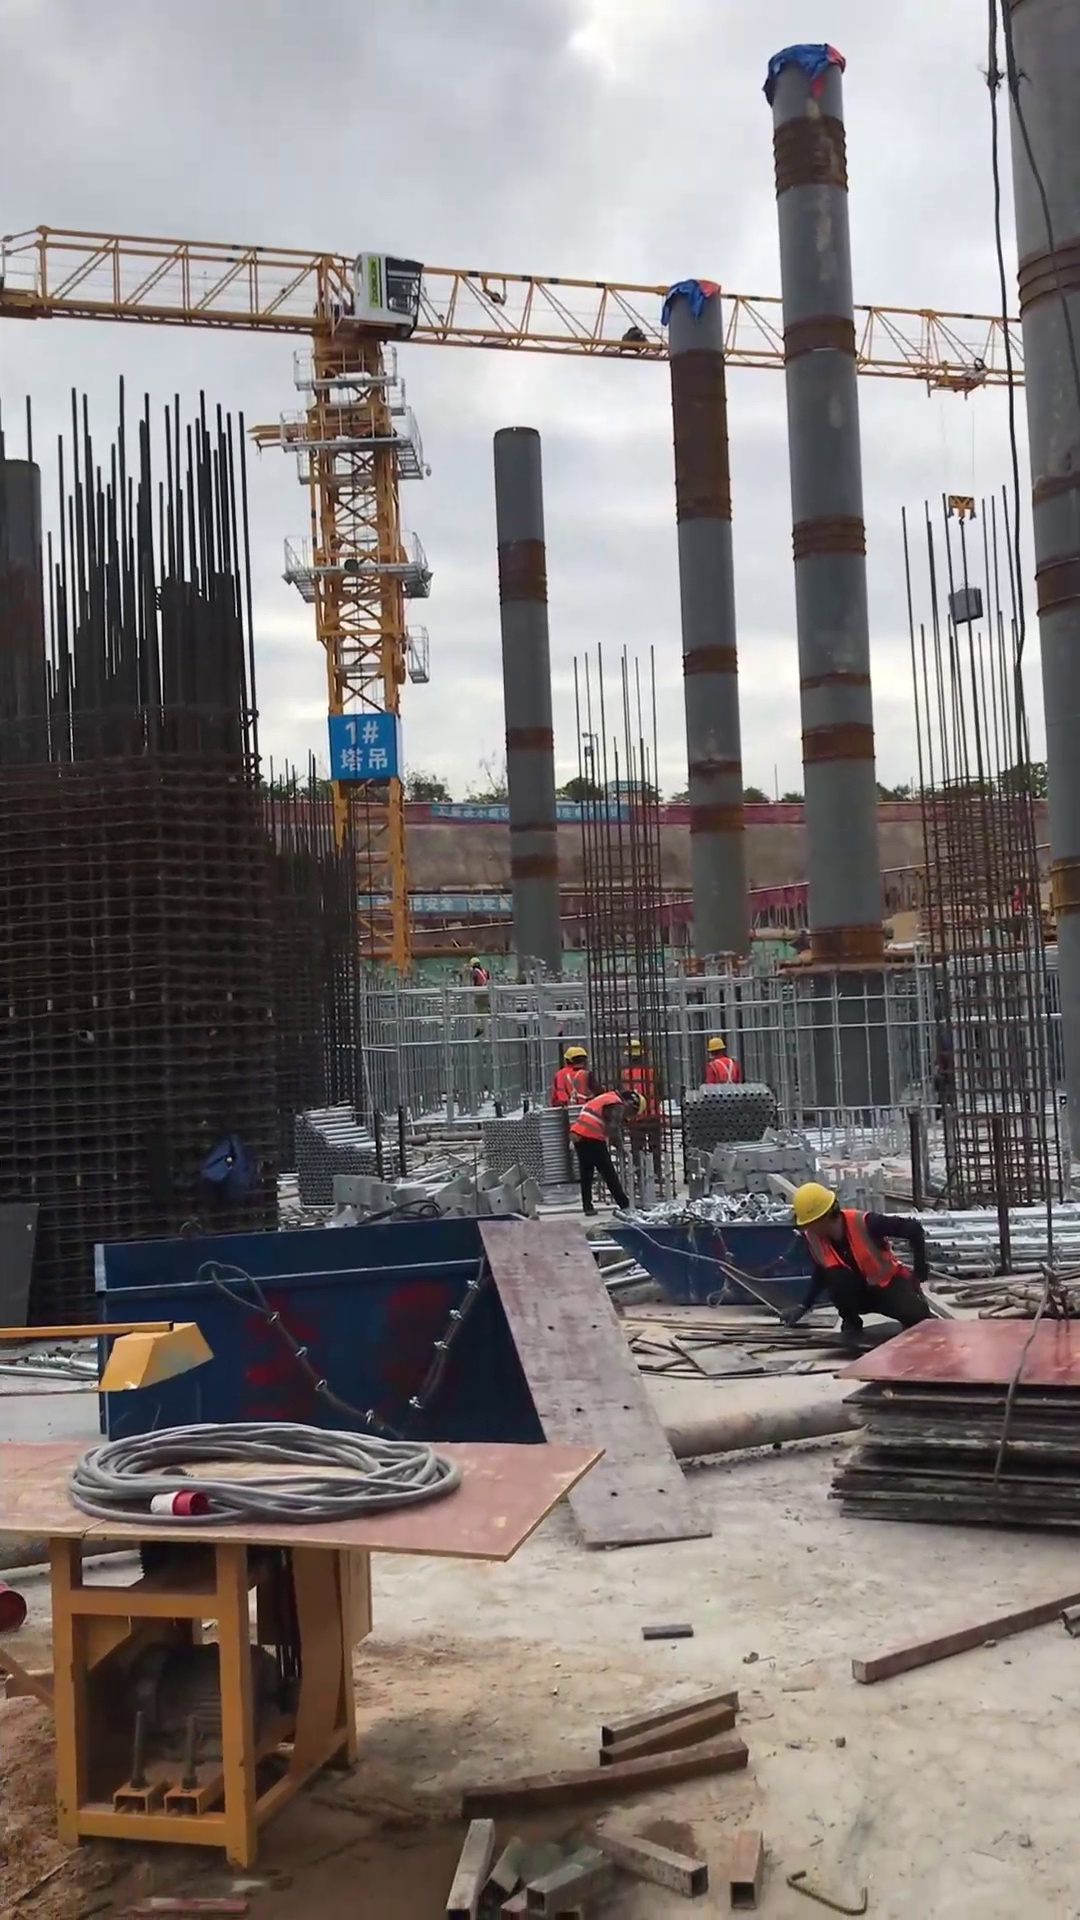board: (828, 1315, 1044, 1528)
cutter: (1, 1304, 526, 1869)
helmet: (789, 1181, 838, 1228), (628, 1089, 646, 1119), (562, 1045, 591, 1063), (623, 1037, 647, 1058), (707, 1037, 725, 1053), (467, 955, 481, 968)
hook: (946, 492, 978, 528)
hopper: (92, 1212, 542, 1444), (607, 1212, 835, 1308)
person: (776, 1180, 933, 1342), (567, 1087, 650, 1216), (620, 1034, 666, 1194), (561, 1043, 605, 1109), (702, 1037, 740, 1084), (551, 1042, 575, 1108), (465, 955, 493, 991)
scaffold: (290, 1100, 417, 1205), (916, 1207, 1049, 1280), (481, 1104, 583, 1188), (680, 1084, 783, 1157)
slogan: (330, 712, 402, 779), (433, 802, 630, 825), (353, 891, 513, 916)
vest: (806, 1210, 912, 1290), (570, 1086, 624, 1143), (621, 1063, 663, 1120), (562, 1064, 595, 1108), (707, 1052, 740, 1084), (555, 1064, 574, 1105), (472, 965, 489, 987)
